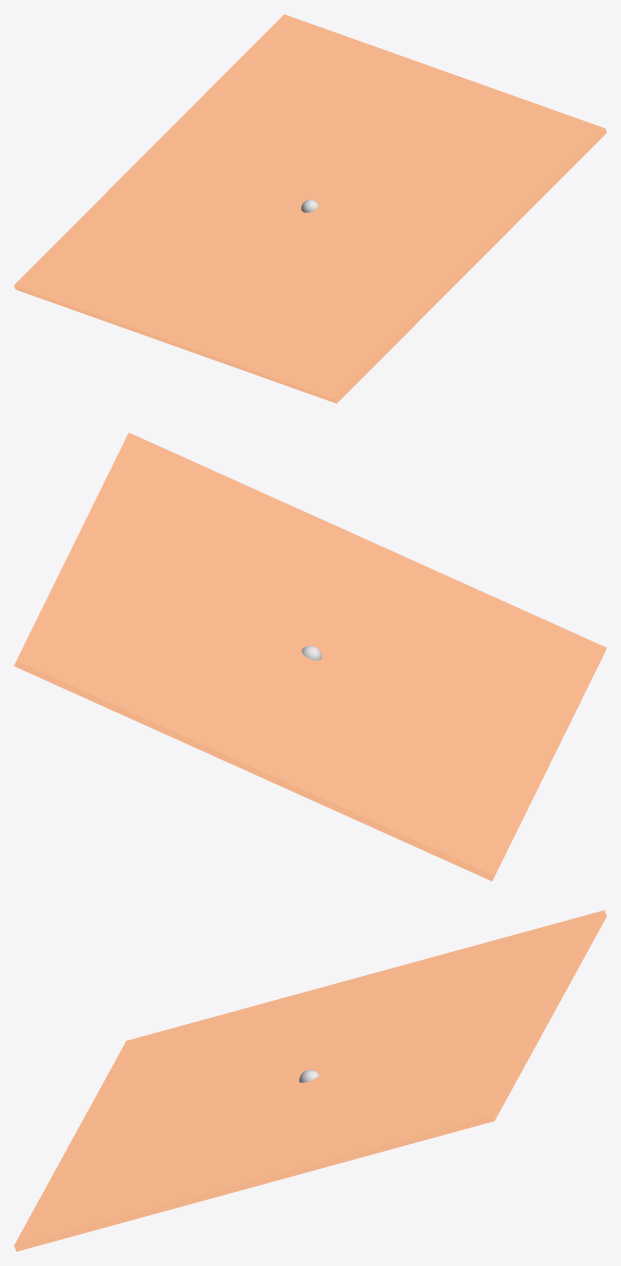
File: black_hole.glb
The picture shows the model from 3 angles, top to bottom: view 1: azimuth 30°, elevation 25°; view 2: azimuth 150°, elevation 25°; view 3: azimuth 330°, elevation 25°; orthographic projection. The views are drawn at different scales.
Visible parts, largest first — view 1: Accretion Disk.001; view 2: Accretion Disk.001; view 3: Accretion Disk.001.
Boxes of the visible parts, <box> form: Accretion Disk.001: <box>14,14,606,403</box>; Accretion Disk.001: <box>14,432,606,881</box>; Accretion Disk.001: <box>14,910,606,1251</box>.
Size of the model in its own units: 71.55 by 24.05 by 74.67.
